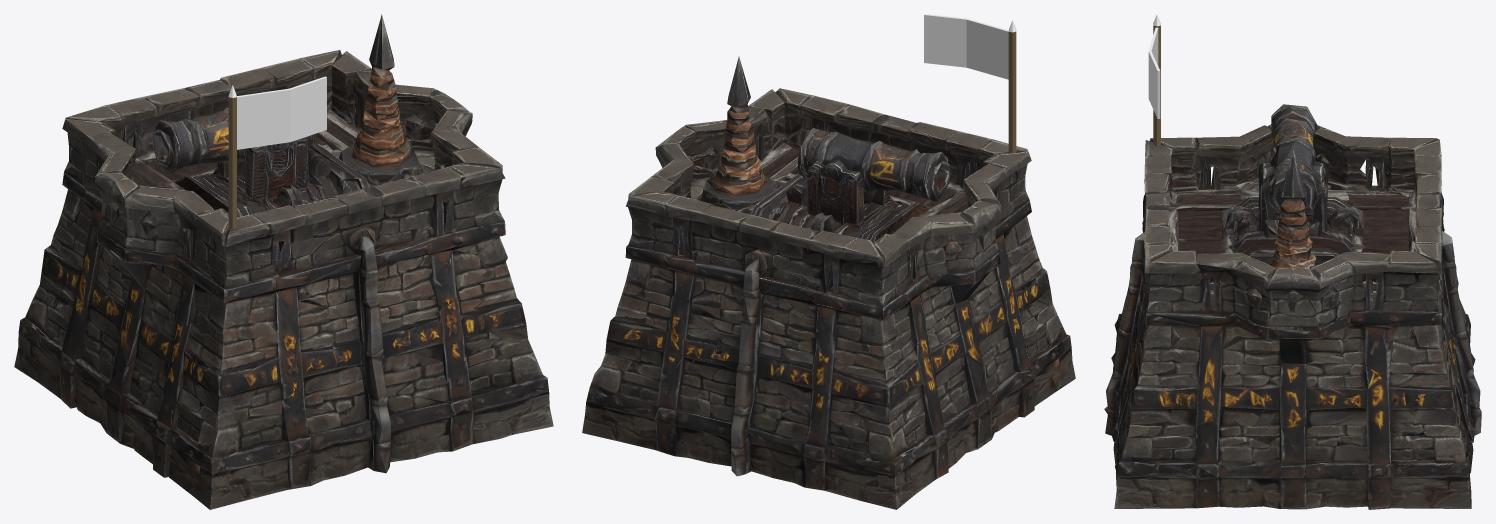
The picture shows the model from 3 angles, left to right: view 1: azimuth 30°, elevation 25°; view 2: azimuth 150°, elevation 25°; view 3: azimuth 270°, elevation 25°; orthographic projection. The views are drawn at different scales.
Parts seen in each view (by area): view 1: ironhold_thunder_bastion, Team_banner; view 2: ironhold_thunder_bastion, Team_banner; view 3: ironhold_thunder_bastion, Team_banner.
Boxes of the visible parts, x1,y1,x2,y2 form: ironhold_thunder_bastion: [14, 14, 553, 509]; Team_banner: [228, 76, 326, 229]; ironhold_thunder_bastion: [582, 56, 1075, 509]; Team_banner: [924, 14, 1016, 152]; ironhold_thunder_bastion: [1104, 104, 1481, 509]; Team_banner: [1148, 14, 1160, 145].
Size of the model in its own units: 1.86 by 2.02 by 1.9.
Materials: 3 (1 with a texture image).
